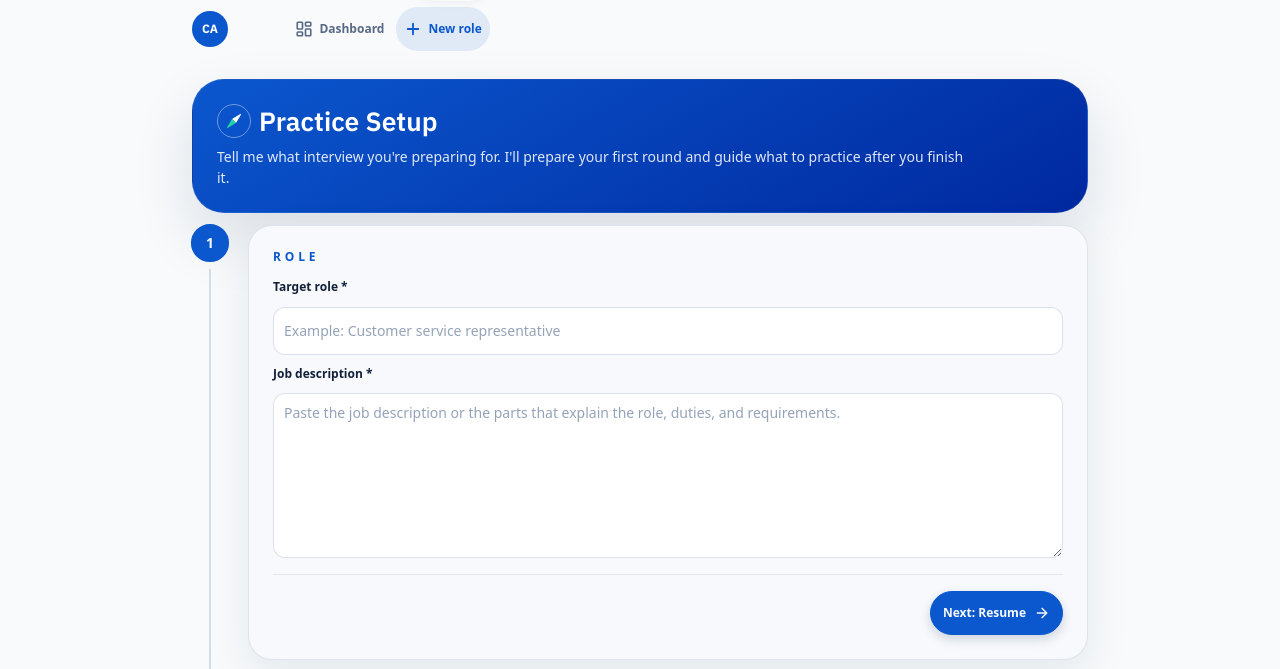
Test: keeps the choice dialog and setup draft available when separate-path creation fails
Type "Material handler" into the field labelled "Target role *" at (668, 331), box [273,307,1063,355]
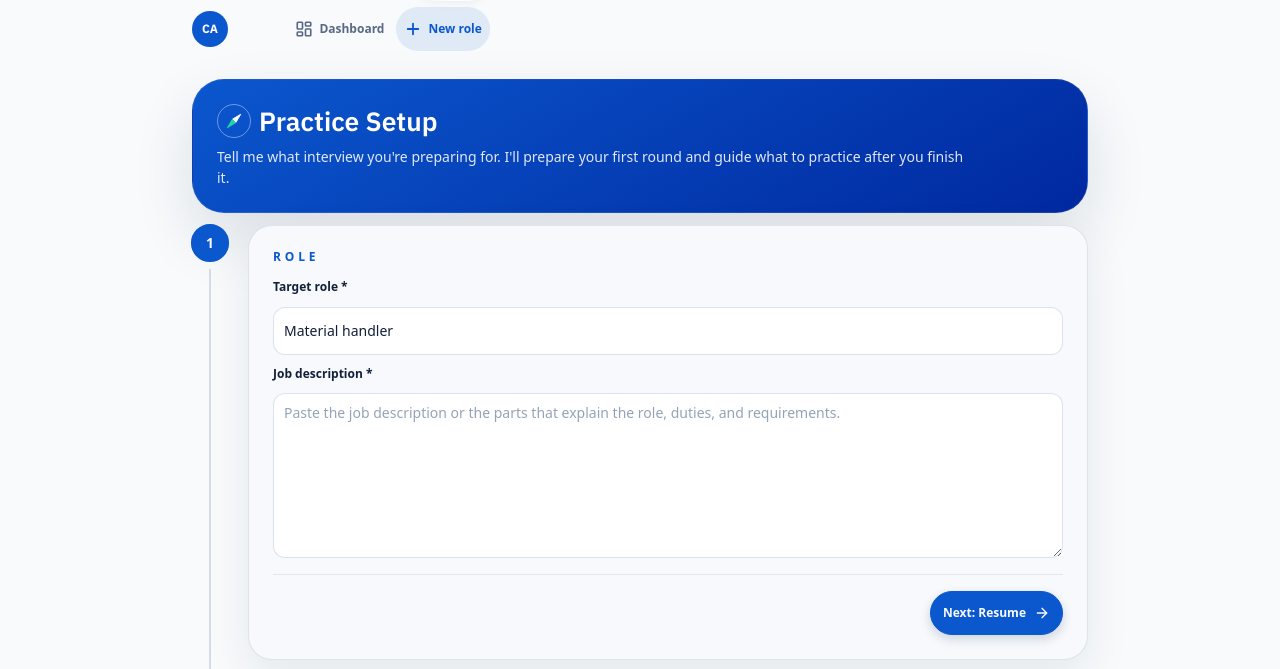
Replace the text in the text box labelled "Job description *" with "Move and label materials." at (668, 476), box [273,393,1063,558]
(page scrolled)
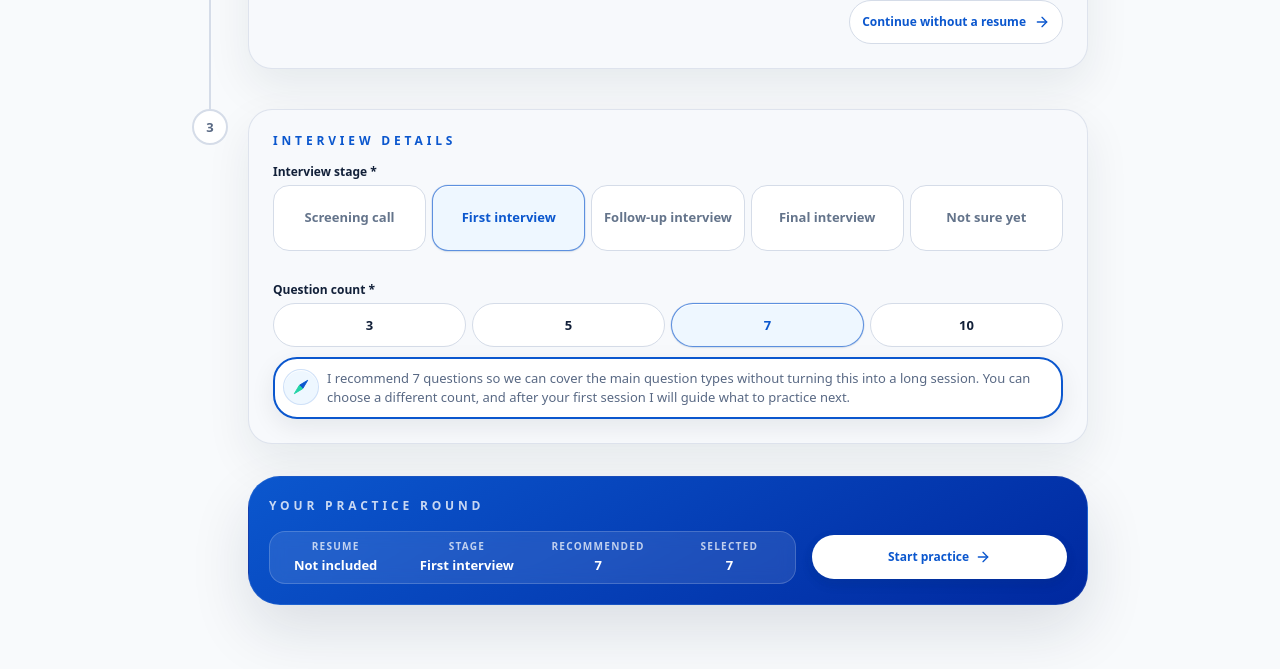
Click the button "Start practice" at (940, 558), box [812,536,1067,580]
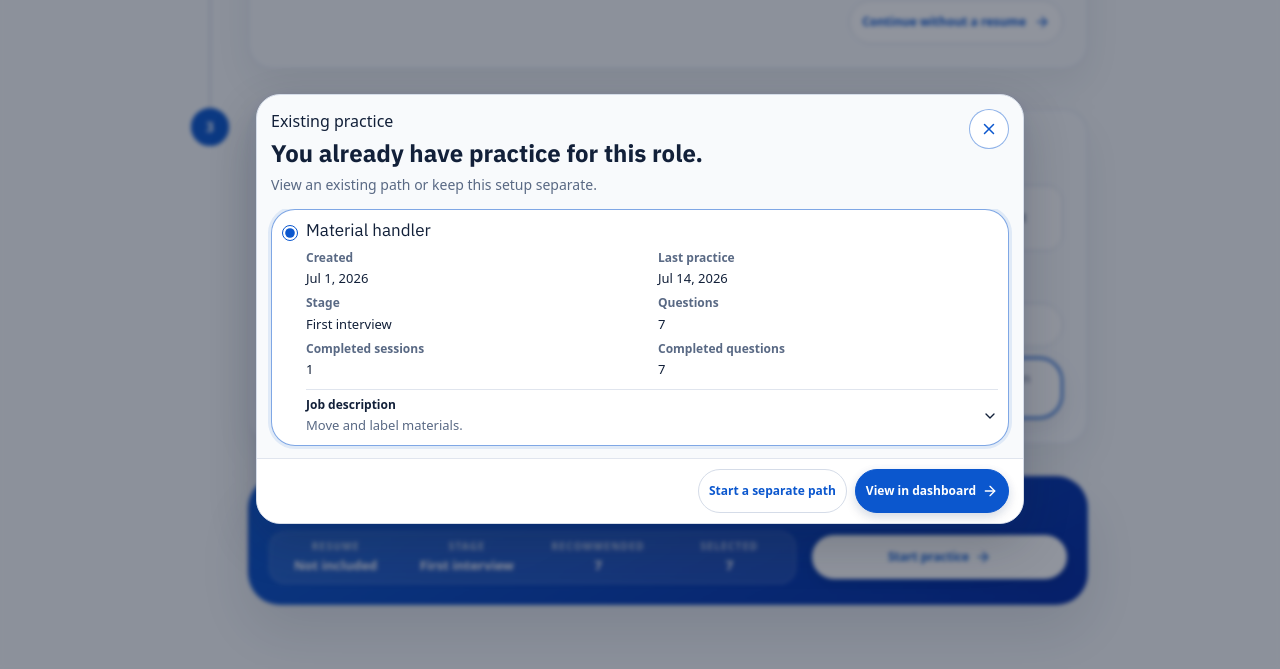
Click the button "Start a separate path" at (772, 491), box [698,469,847,513]
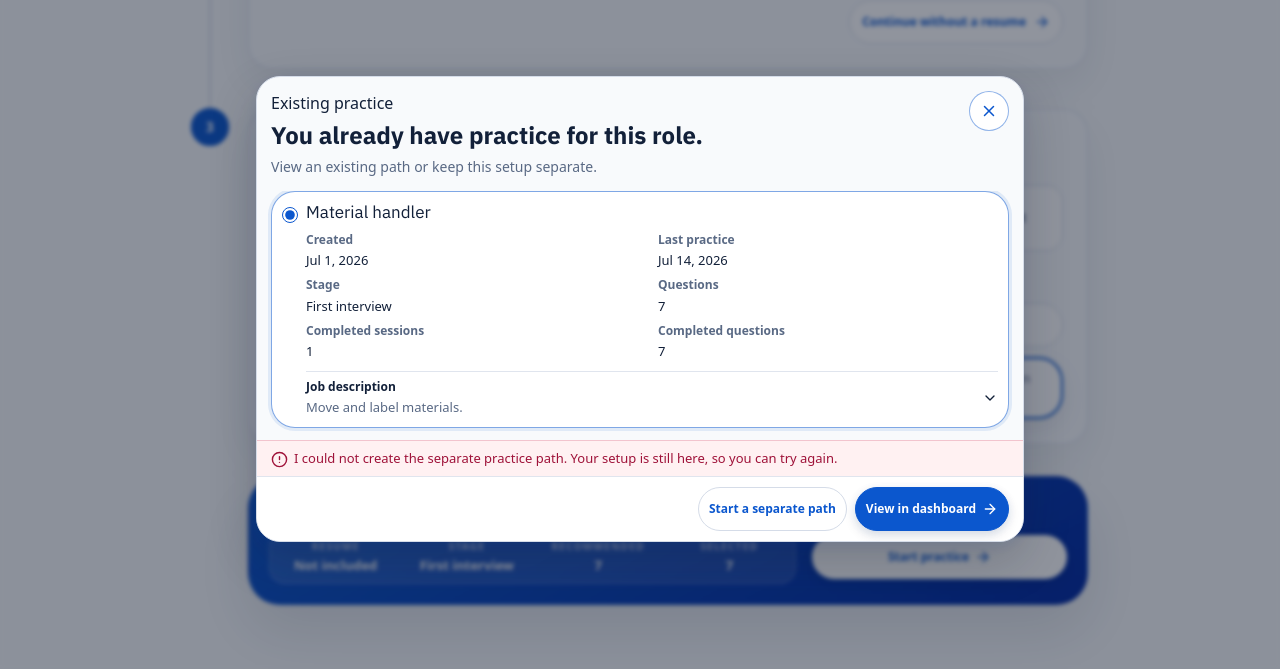
Check: the dialog is shown, box [256,76,1024,542]
Check: the message shows "Your setup is still here", box [294,449,838,467]
